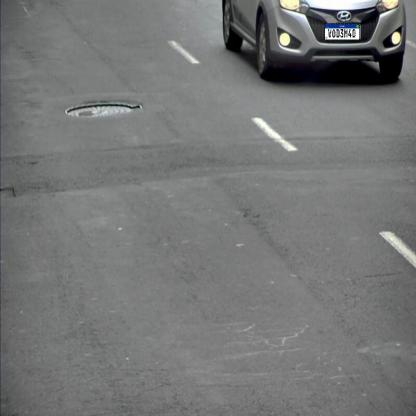PlacaM: (324, 24, 360, 40)
